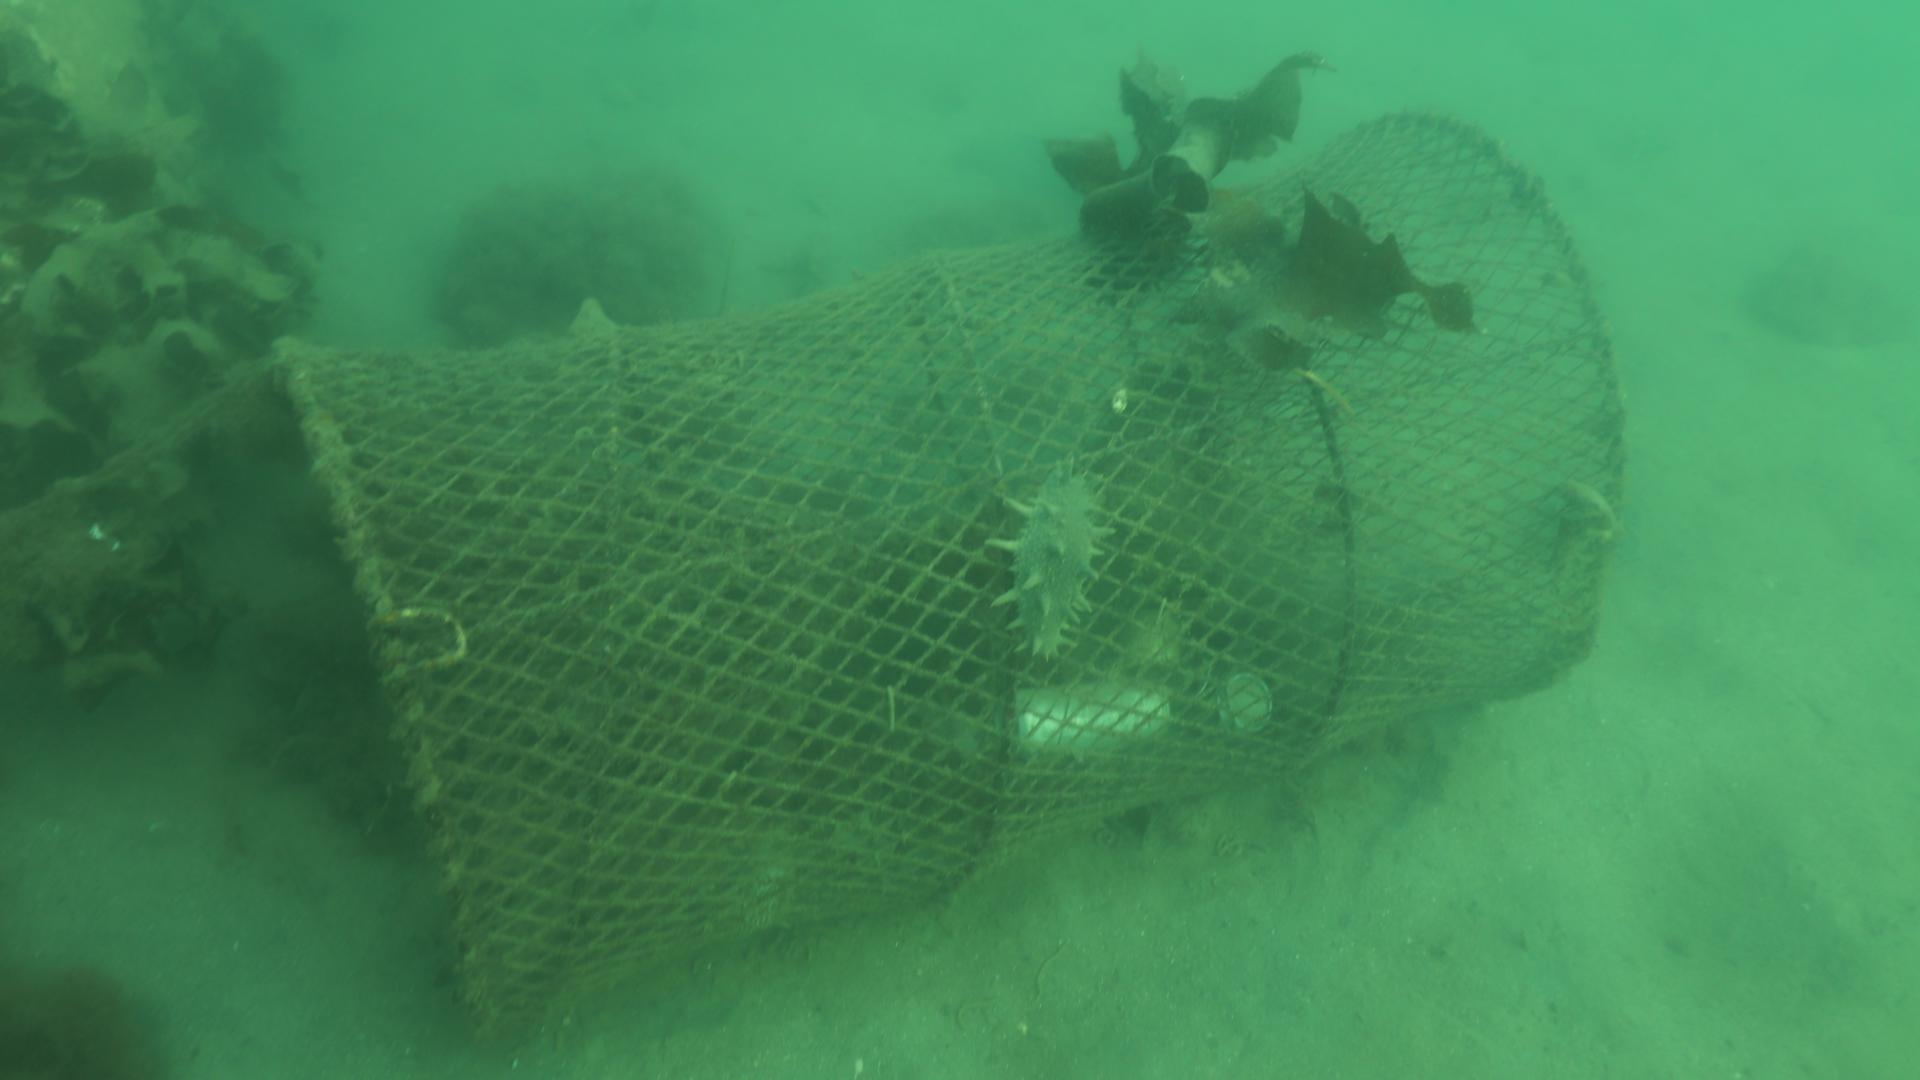spring fish trap: (269, 105, 1633, 1044)
